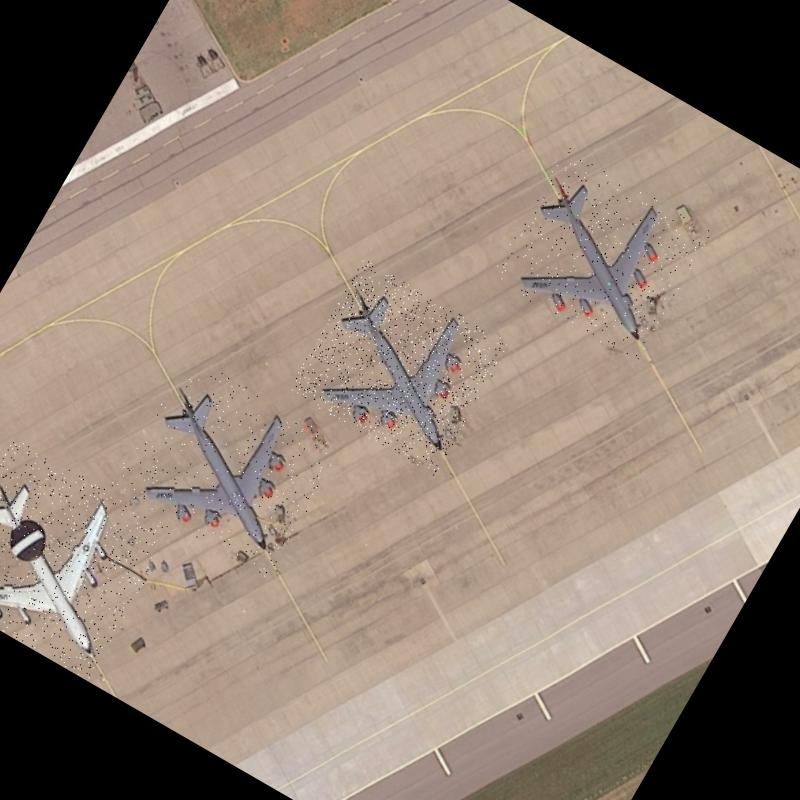A14: (109, 353, 345, 580), (287, 258, 511, 476), (489, 146, 712, 363)
A7: (0, 437, 175, 680)
